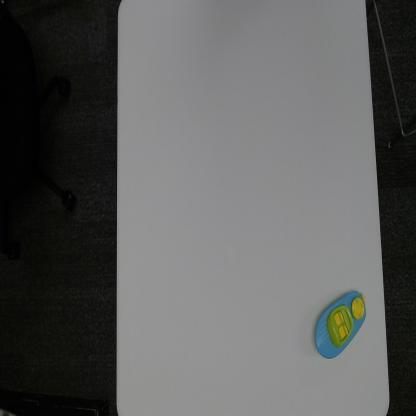Boat: (310, 284, 367, 363)
